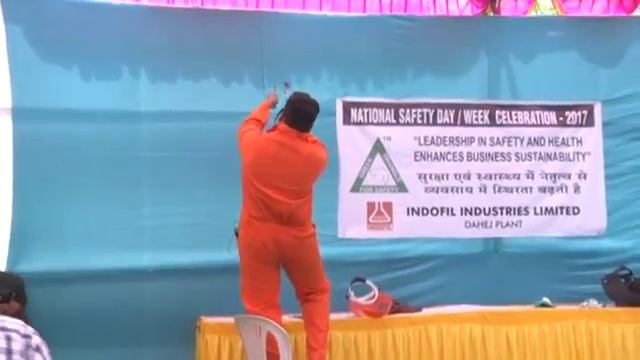helmet_off: (282, 92, 320, 134)
person: (231, 91, 335, 360)
